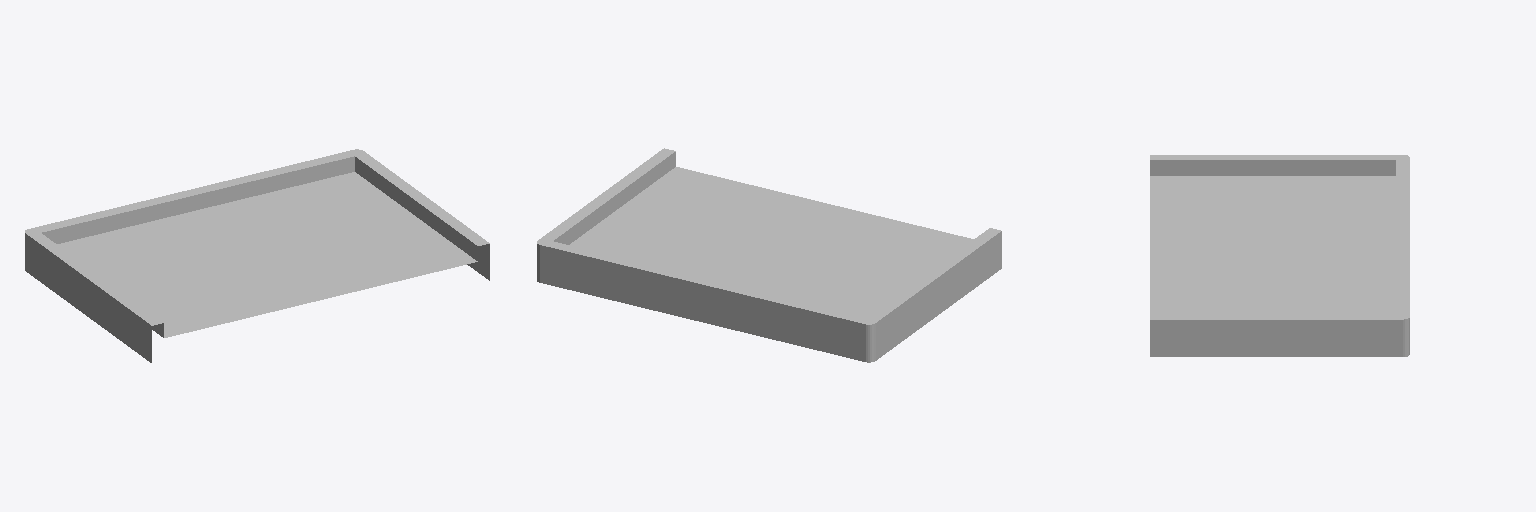
Rendered from blankEnd_B_2x3.obj.
3 views of the same model, side by side, from view 1: azimuth 30°, elevation 25°; view 2: azimuth 150°, elevation 25°; view 3: azimuth 270°, elevation 25° (orthographic).
Parts seen in each view (by area): view 1: modelPanel2ViewSelectedSet blankEnd_B_2x3; view 2: modelPanel2ViewSelectedSet blankEnd_B_2x3; view 3: modelPanel2ViewSelectedSet blankEnd_B_2x3.
Part boxes in pixels (x1,y1,x2,y2): modelPanel2ViewSelectedSet blankEnd_B_2x3: (25, 149, 489, 362); modelPanel2ViewSelectedSet blankEnd_B_2x3: (537, 148, 1001, 362); modelPanel2ViewSelectedSet blankEnd_B_2x3: (1150, 155, 1409, 356).
Size of the model in its own units: 3 by 0.3212 by 2.